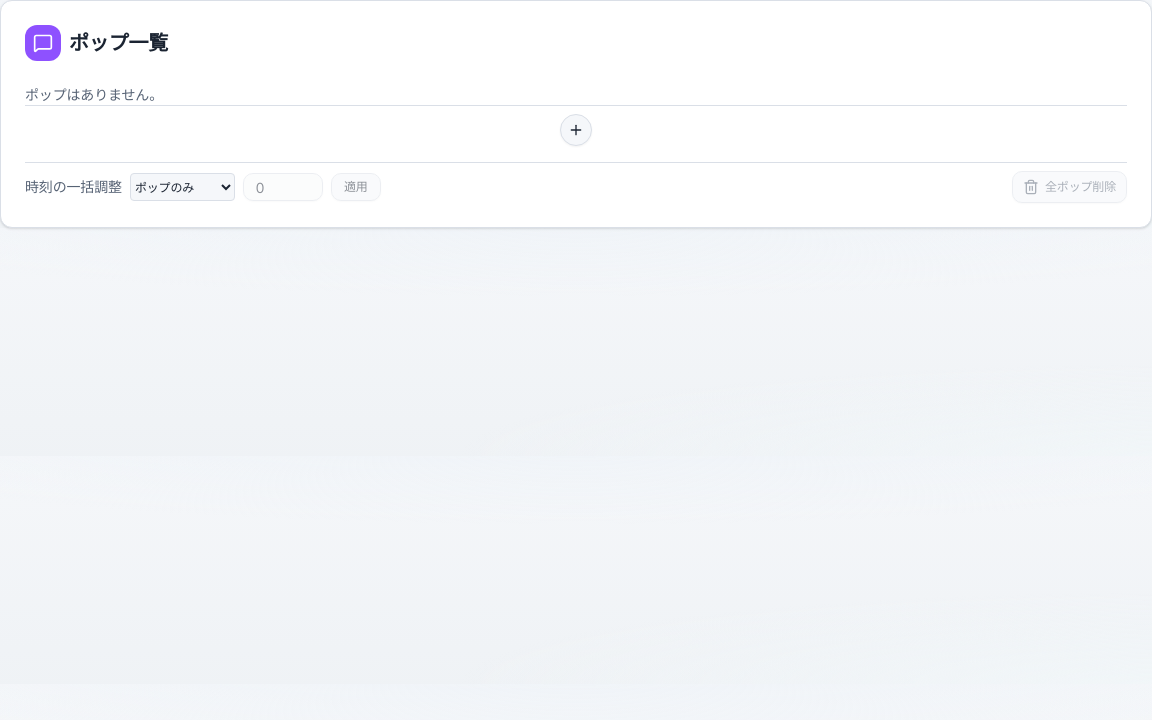
it: undoes pop addition from the automatically focused text field and redoes it
The image size is (1152, 720).
Click the button named "空ポップを追加" at (576, 130), box [560,114,592,146]
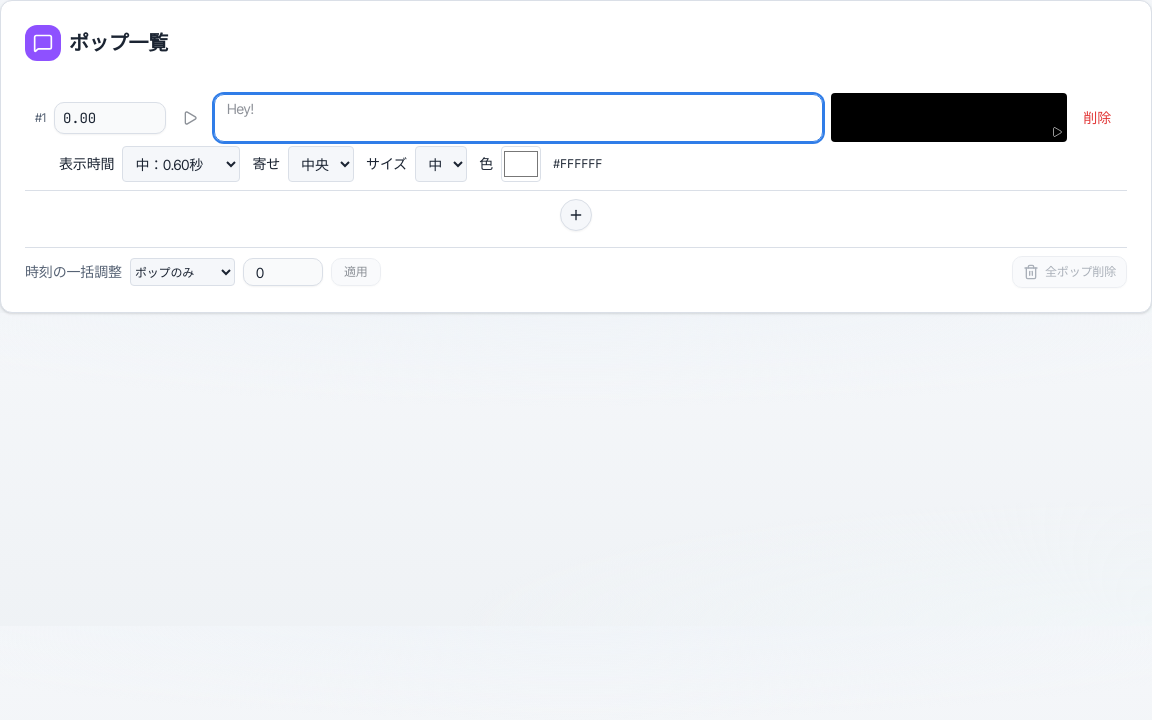
Press z in the text box named "ポップ1の文字列", box [214,94,823,142]
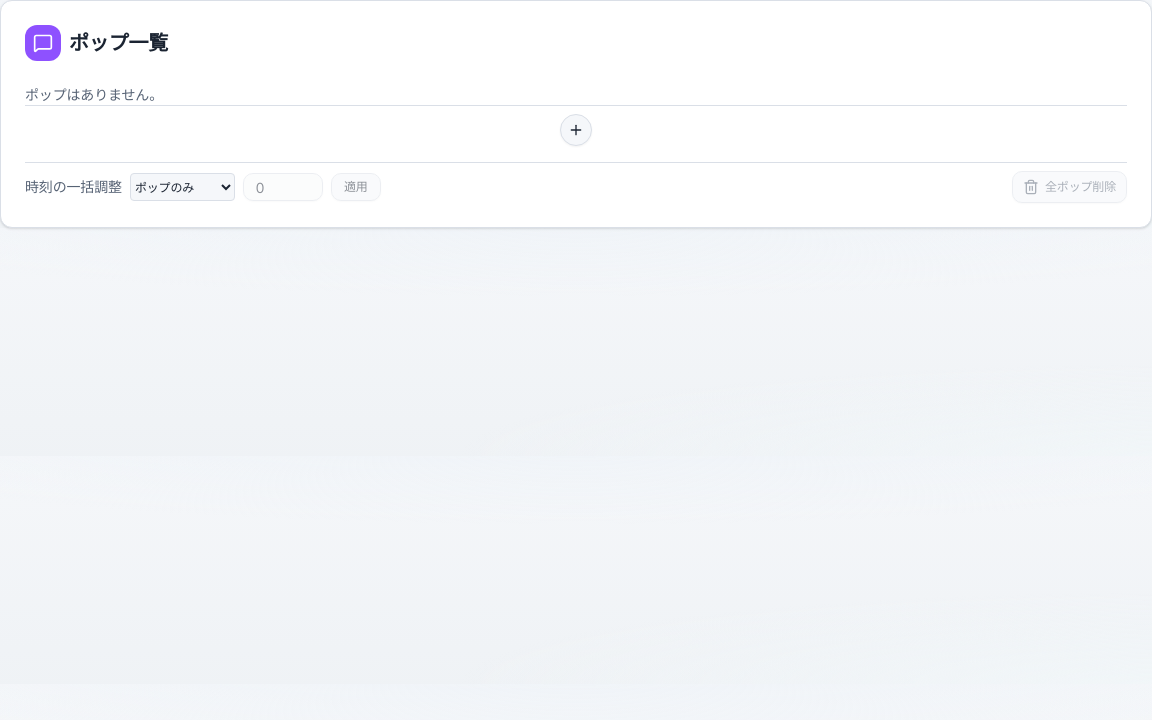
Press y
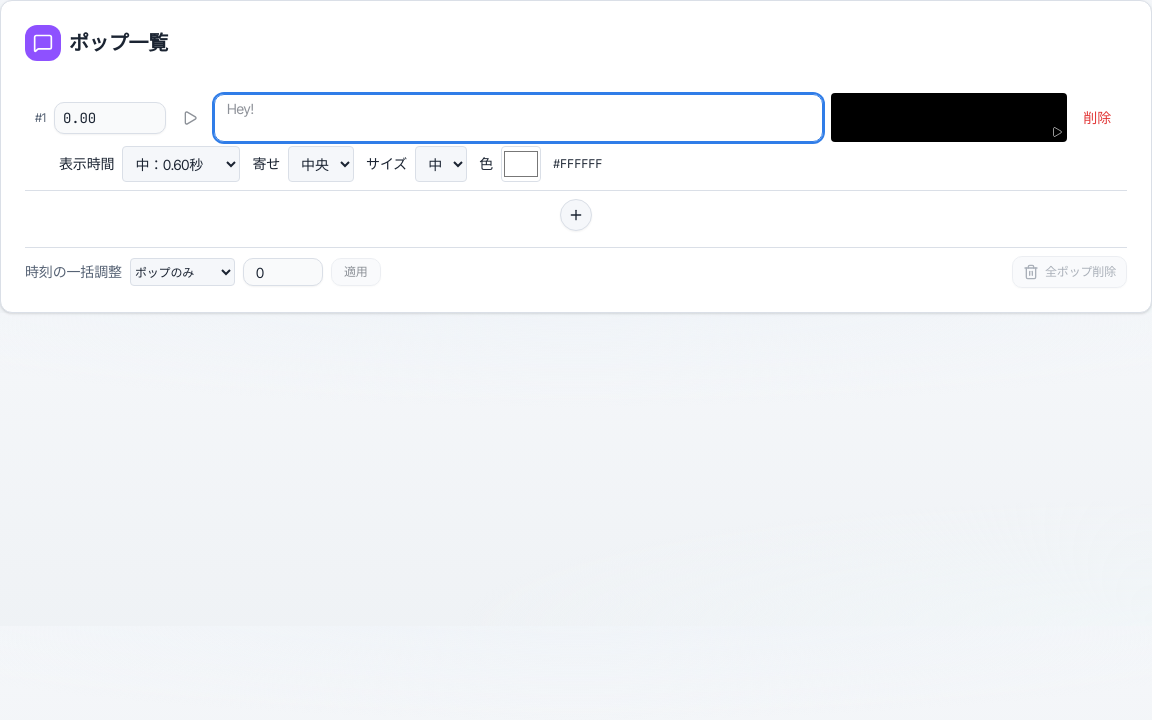
Expected: the element showing "#1 削除 表示時間 寄せ サイズ 色 #FFFFFF" is shown, [25,85,1127,190]
Press z in the text box named "ポップ1の文字列", box [214,94,823,142]
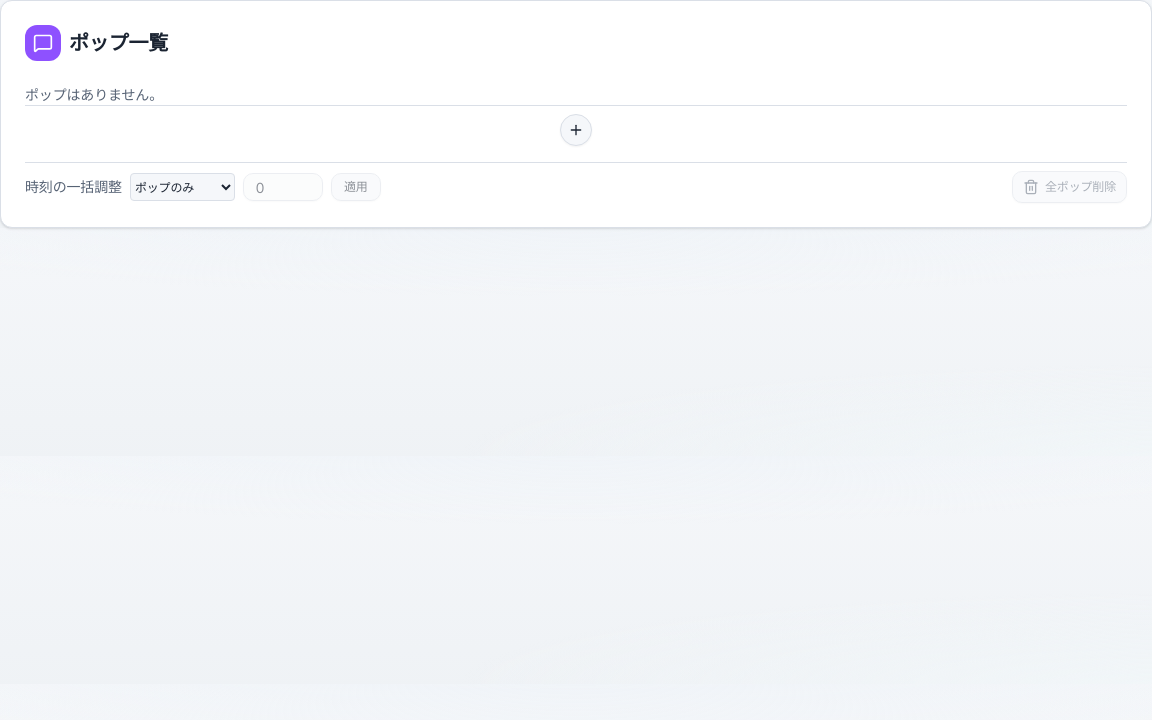
Press z
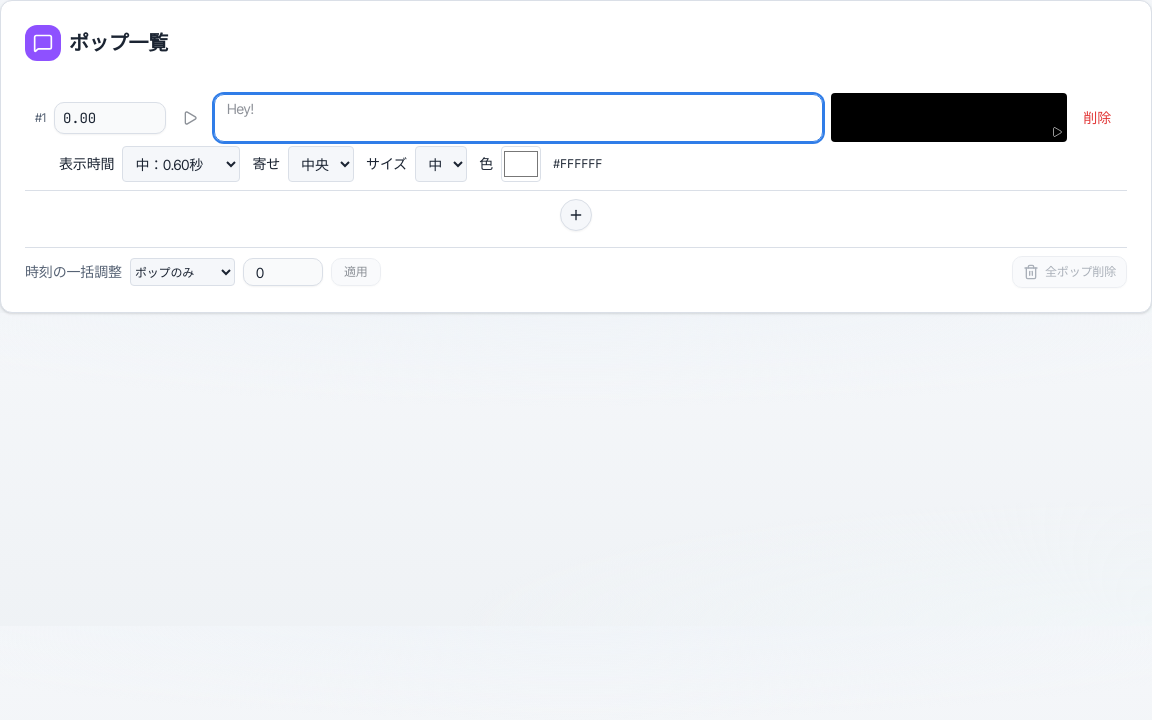
Expected: the element showing "#1 削除 表示時間 寄せ サイズ 色 #FFFFFF" is shown, [25,85,1127,190]
